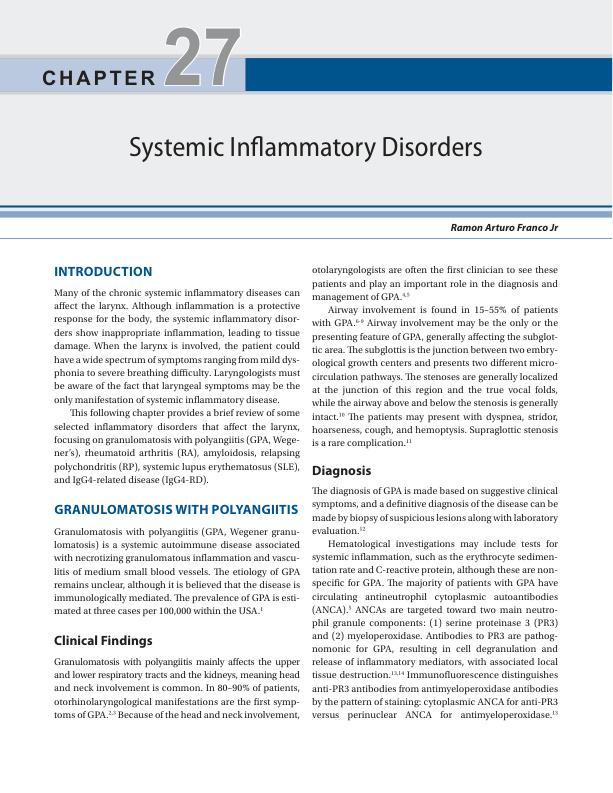chapter-heading: (128, 134, 484, 164)
section-heading: (53, 503, 299, 515), (53, 265, 153, 278)
sub-section-heading: (53, 634, 154, 650), (311, 464, 373, 479)
text: (311, 485, 559, 722), (53, 287, 302, 487), (310, 264, 559, 450), (52, 525, 302, 617), (52, 656, 301, 720)
